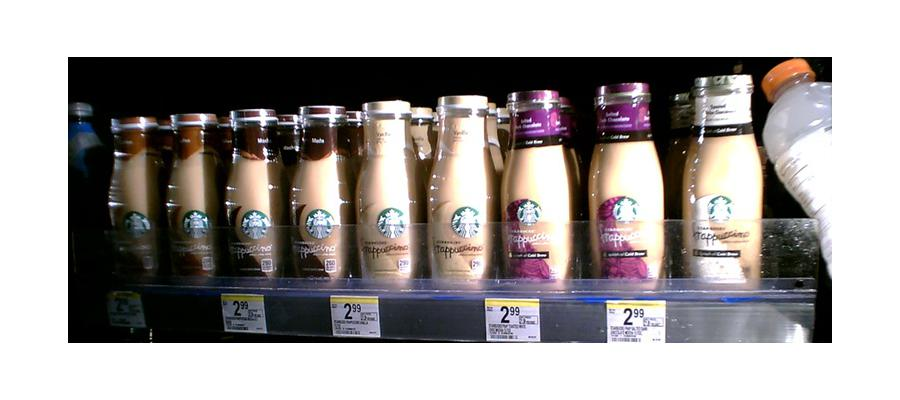bottle: (586, 78, 673, 295), (681, 72, 764, 286), (501, 88, 582, 290), (427, 93, 497, 290), (353, 99, 424, 290), (283, 100, 350, 292), (221, 105, 282, 289), (162, 108, 220, 286), (109, 109, 165, 283)
